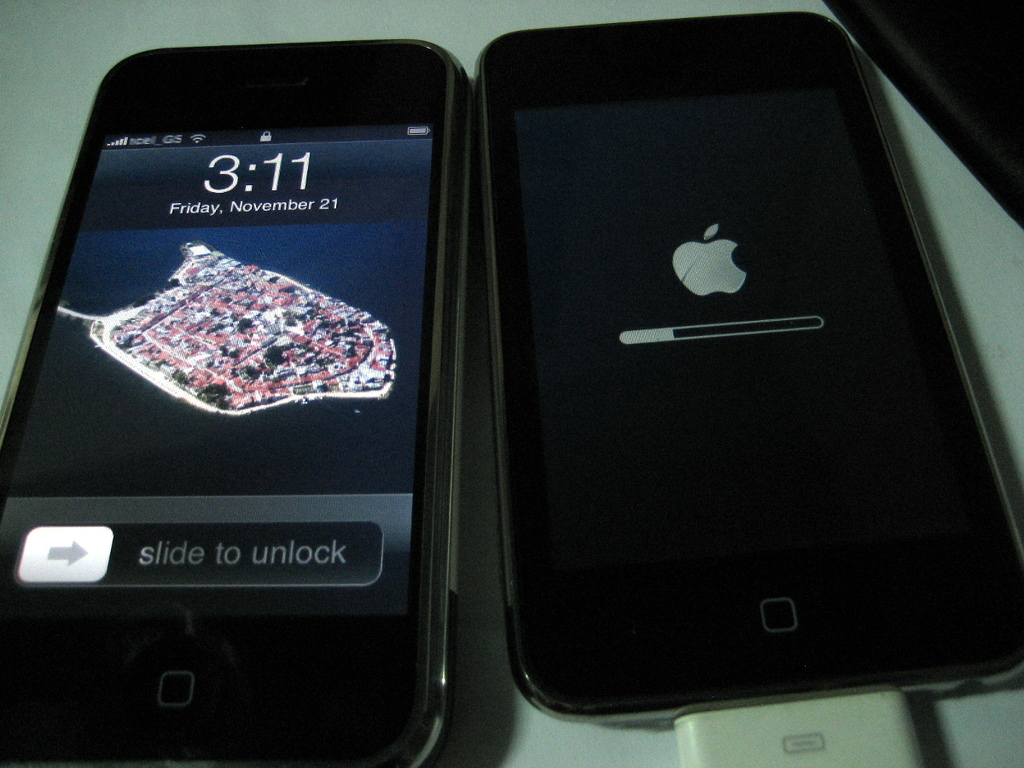Mobile-phone: (474, 12, 1023, 717), (0, 39, 478, 767)
